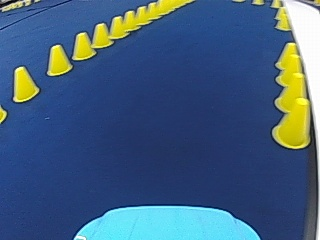cone: (272, 99, 311, 148), (274, 44, 301, 96), (274, 71, 304, 111), (11, 65, 39, 101), (45, 43, 73, 76), (285, 71, 308, 106), (275, 42, 298, 71), (71, 31, 94, 59), (91, 22, 110, 47), (283, 53, 303, 76), (274, 6, 290, 30), (108, 16, 125, 38), (121, 10, 136, 31), (134, 6, 148, 26), (146, 1, 157, 19)
